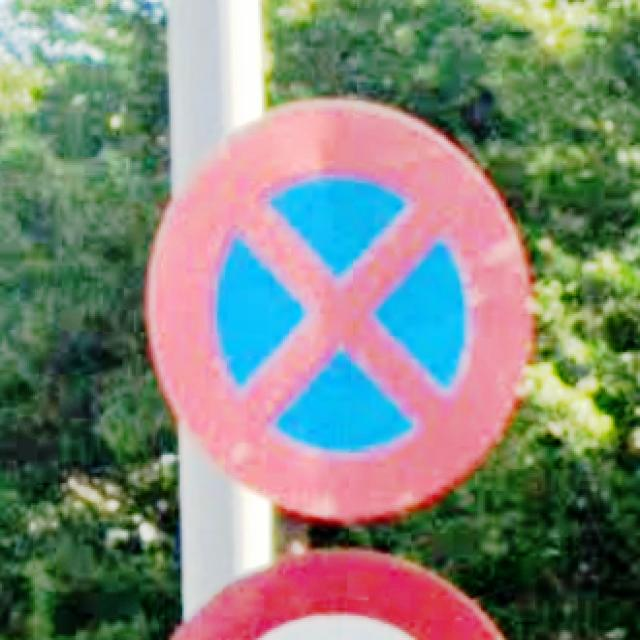nostop: (142, 95, 539, 523)
